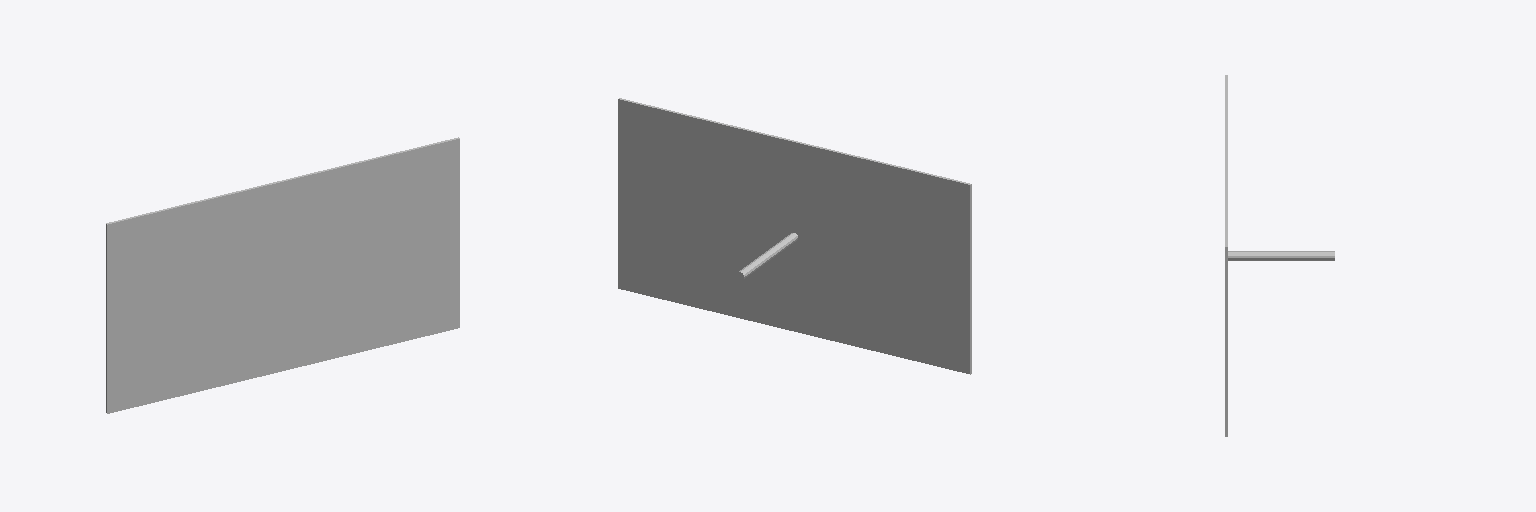
The model's file is upper_plate_visual.obj.
The picture shows the model from 3 angles: view 1: azimuth 30°, elevation 25°; view 2: azimuth 150°, elevation 25°; view 3: azimuth 270°, elevation 25°; orthographic projection.
Parts seen in each view (by area): view 1: upper plate; view 2: upper plate; view 3: upper plate.
Boxes of the visible parts, x1,y1,x2,y2 form: upper plate: [106, 137, 459, 413]; upper plate: [618, 98, 971, 374]; upper plate: [1225, 75, 1334, 436].
Bounding box in the file's own units: 25.7 × 13.2 × 7.